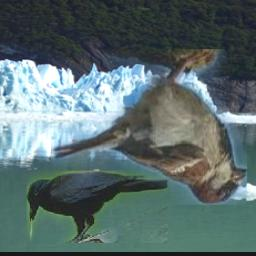Crow: (28, 171, 168, 243)
Sparrow: (52, 50, 248, 206)
